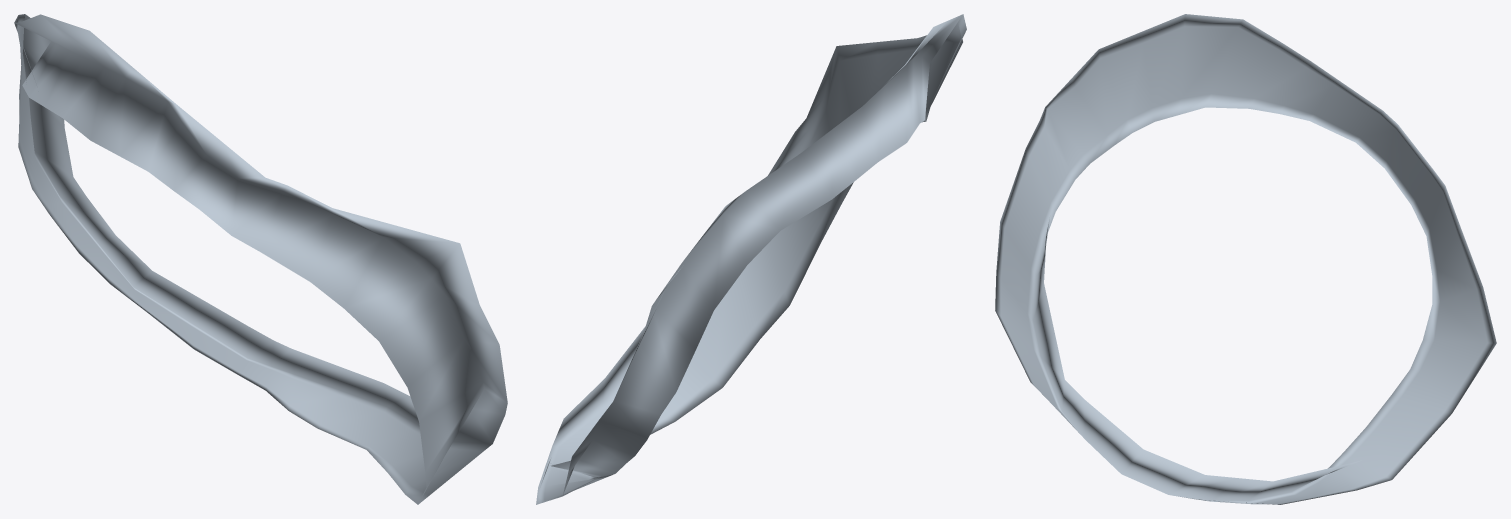
File: acetabular-labrum-r.glb
3 views of the same model, side by side, from view 1: azimuth 30°, elevation 25°; view 2: azimuth 150°, elevation 25°; view 3: azimuth 270°, elevation 25° (orthographic). The views are drawn at different scales.
Visible parts, largest first — view 1: Acetabular labrum.r; view 2: Acetabular labrum.r; view 3: Acetabular labrum.r.
Part boxes in pixels (x1=…): Acetabular labrum.r: x1=14, y1=14, x2=507, y2=504; Acetabular labrum.r: x1=536, y1=14, x2=966, y2=504; Acetabular labrum.r: x1=995, y1=14, x2=1496, y2=504.
Bounding box in the file's own units: 0.036 × 0.0484 × 0.0582.
